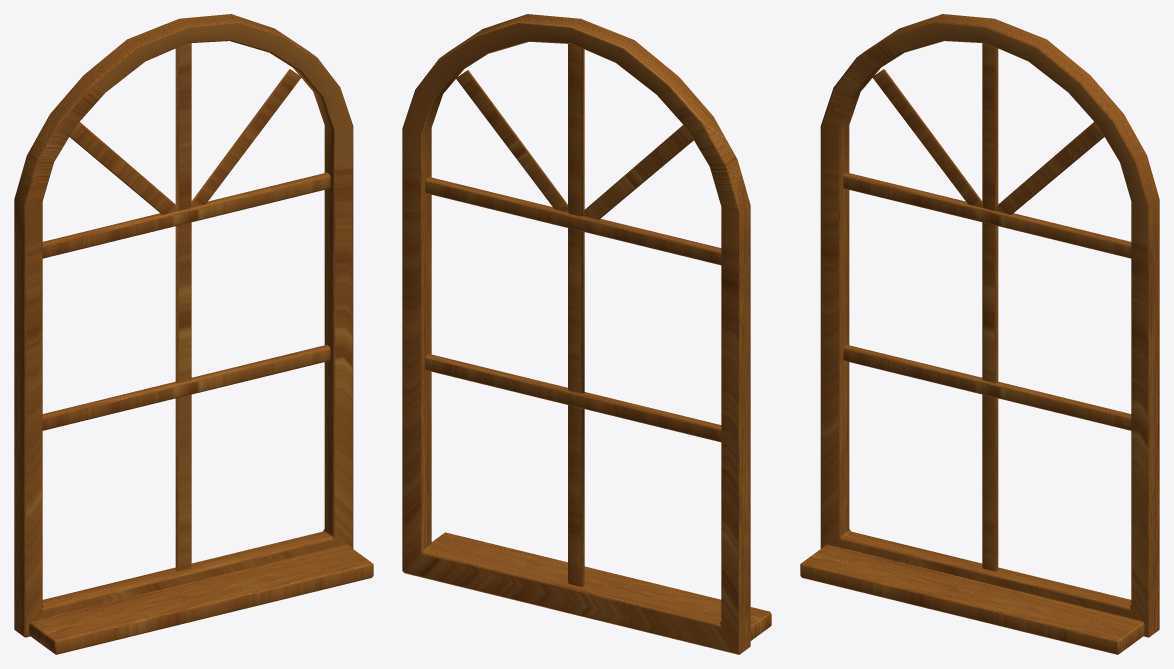
Rendered from Window.fbx.
3 views of the same model, side by side, from view 1: azimuth 30°, elevation 25°; view 2: azimuth 150°, elevation 25°; view 3: azimuth 330°, elevation 25° (orthographic). The views are drawn at different scales.
Visible parts, largest first — view 1: Cube.008; view 2: Cube.008; view 3: Cube.008.
Boxes of the visible parts, box(x1,y1,x2,y2) form: Cube.008: box(14, 14, 373, 654); Cube.008: box(402, 14, 771, 654); Cube.008: box(800, 14, 1159, 654).
Size of the model in its own units: 91.52 by 152 by 17.76.
